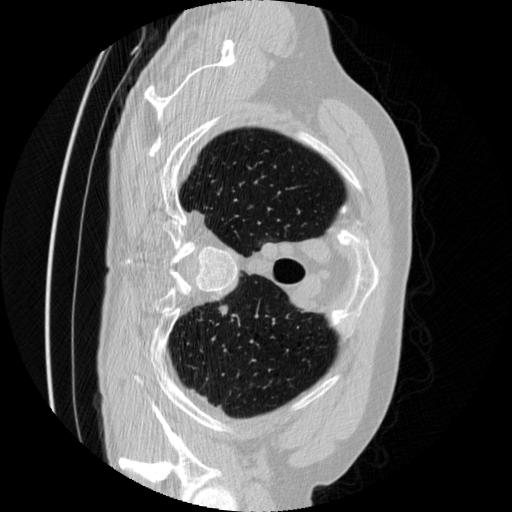nodule: (218, 305, 232, 319)
